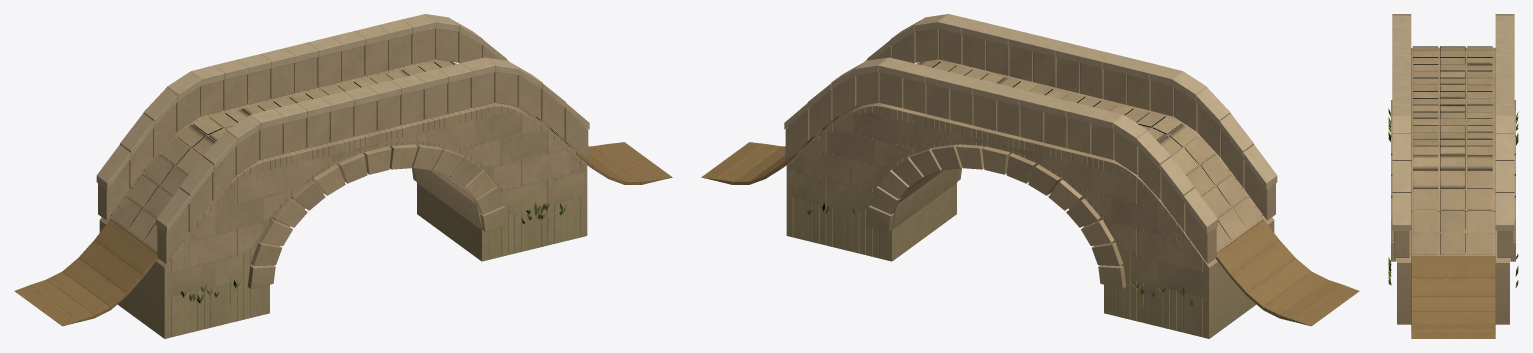
The model's file is SM_PuentePiedra_A_Detalle_LOD0.fbx.
3 views of the same model, side by side, from view 1: azimuth 30°, elevation 25°; view 2: azimuth 150°, elevation 25°; view 3: azimuth 270°, elevation 25° (orthographic). The views are drawn at different scales.
Visible parts, largest first — view 1: SM_PuentePiedra_A_Detalle_LOD0; view 2: SM_PuentePiedra_A_Detalle_LOD0; view 3: SM_PuentePiedra_A_Detalle_LOD0.
Boxes of the visible parts, left/top/right/bottom form: SM_PuentePiedra_A_Detalle_LOD0: left=14, top=14, right=672, bottom=338; SM_PuentePiedra_A_Detalle_LOD0: left=701, top=14, right=1359, bottom=338; SM_PuentePiedra_A_Detalle_LOD0: left=1388, top=14, right=1518, bottom=338.
Bounding box in the file's own units: 1.73 × 0.531 × 0.368.
1 material, 1 textured.
